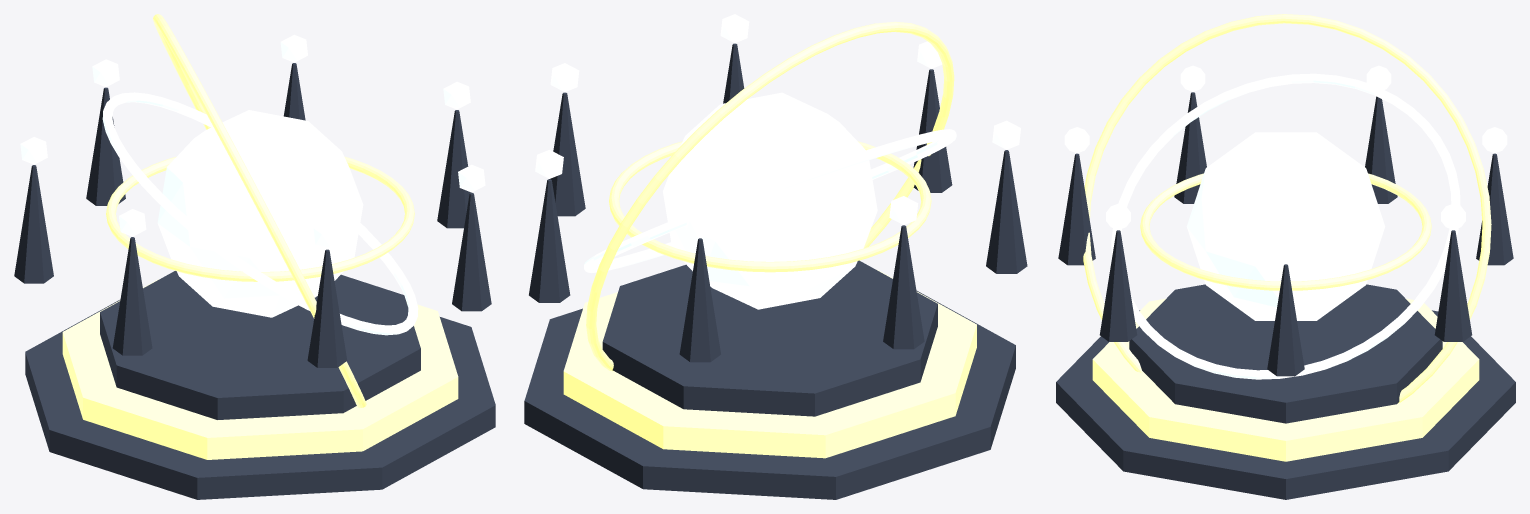
File: gpu-blender-v24.glb
3 views of the same model, side by side, from view 1: azimuth 30°, elevation 25°; view 2: azimuth 150°, elevation 25°; view 3: azimuth 270°, elevation 25° (orthographic). The views are drawn at different scales.
Visible parts, largest first — view 1: Cylinder.002, SovereignCore_agent-budget-sentinel, Cylinder, Cylinder.001, Torus.001, Torus, Torus.002, Cone.006, Cone.003, Cone.004, Cone.005, Cone (+9 smaller); view 2: Cylinder.002, SovereignCore_agent-budget-sentinel, Cylinder, Cylinder.001, Torus.002, Torus.001, Torus, Cone.003, Cone.002, Cone.004, Cone.001, Cone (+8 smaller); view 3: SovereignCore_agent-budget-sentinel, Cylinder.002, Cylinder, Cylinder.001, Torus.002, Torus.001, Torus, Cone, Cone.001, Cone.006, Cone.005, Cone.002 (+8 smaller).
Part boxes in pixels (box(x1,y1,x2,y2)): Cylinder.002: box(100, 271, 420, 419); SovereignCore_agent-budget-sentinel: box(157, 110, 363, 317); Cylinder: box(25, 299, 495, 499); Cylinder.001: box(62, 279, 458, 459); Torus.001: box(102, 92, 418, 335); Torus: box(106, 156, 414, 281); Torus.002: box(153, 14, 366, 407); Cone.006: box(452, 193, 491, 311); Cone.003: box(14, 165, 53, 283); Cone.004: box(112, 237, 152, 355); Cone.005: box(307, 249, 347, 367); Cone: box(437, 110, 471, 228); Cylinder.002: box(602, 260, 937, 416); SovereignCore_agent-budget-sentinel: box(663, 92, 877, 309); Cylinder: box(524, 290, 1015, 499); Cylinder.001: box(563, 269, 976, 458); Torus.002: box(586, 21, 954, 371); Torus.001: box(584, 129, 956, 272); Torus: box(609, 141, 931, 272); Cone.003: box(883, 225, 924, 349); Cone.002: box(679, 238, 720, 362); Cone.004: box(986, 150, 1027, 273); Cone.001: box(529, 179, 570, 302); Cone: box(549, 92, 585, 216); SovereignCore_agent-budget-sentinel: box(1186, 132, 1385, 320); Cylinder.002: box(1129, 284, 1442, 423); Cylinder: box(1056, 310, 1515, 499); Cylinder.001: box(1092, 298, 1479, 461); Torus.002: box(1083, 14, 1491, 403); Torus.001: box(1111, 73, 1460, 379); Torus: box(1140, 173, 1431, 290); Cone: box(1267, 264, 1304, 376); Cone.001: box(1434, 230, 1472, 341); Cone.006: box(1099, 230, 1137, 341); Cone.005: box(1058, 153, 1095, 265); Cone.002: box(1476, 153, 1513, 265).
Bounding box in the file's own units: 4.41 × 3.72 × 4.4.
